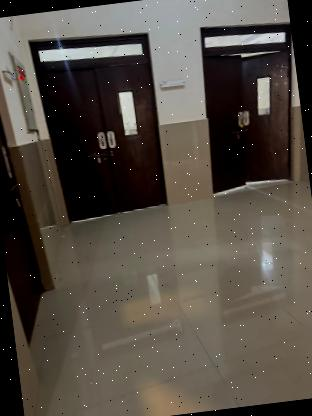door: (22, 20, 178, 229), (190, 11, 309, 202)
